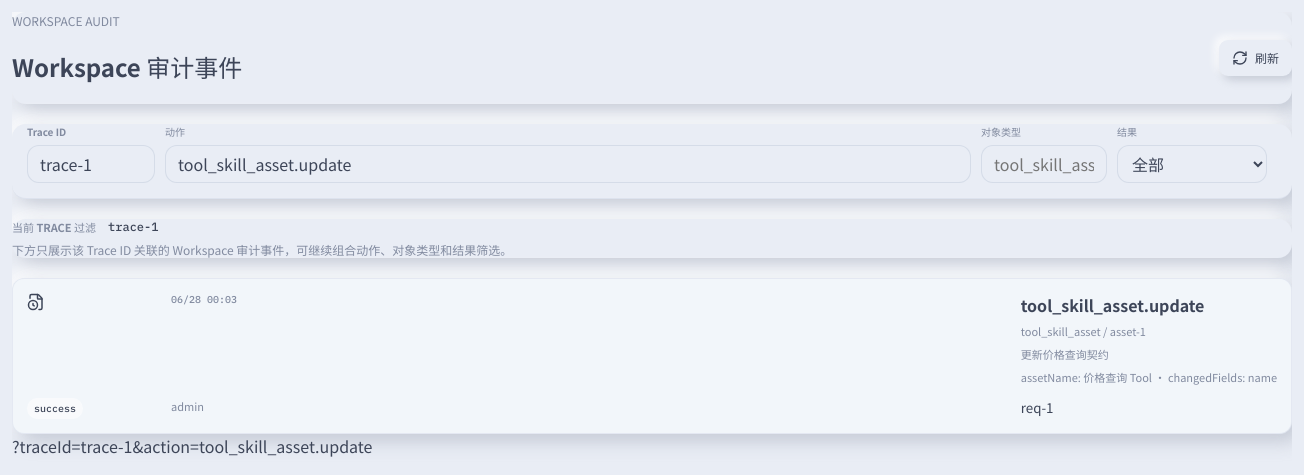
Test: AuditLog page › syncs audit filters to the URL while preserving existing filters
The image size is (1304, 475).
expect the text "tool_skill_asset.update" is shown: met, box [1021,293,1204,317]
Select "denied" in the dropdown labelled "结果": (1192, 164) [1117,145,1267,183]
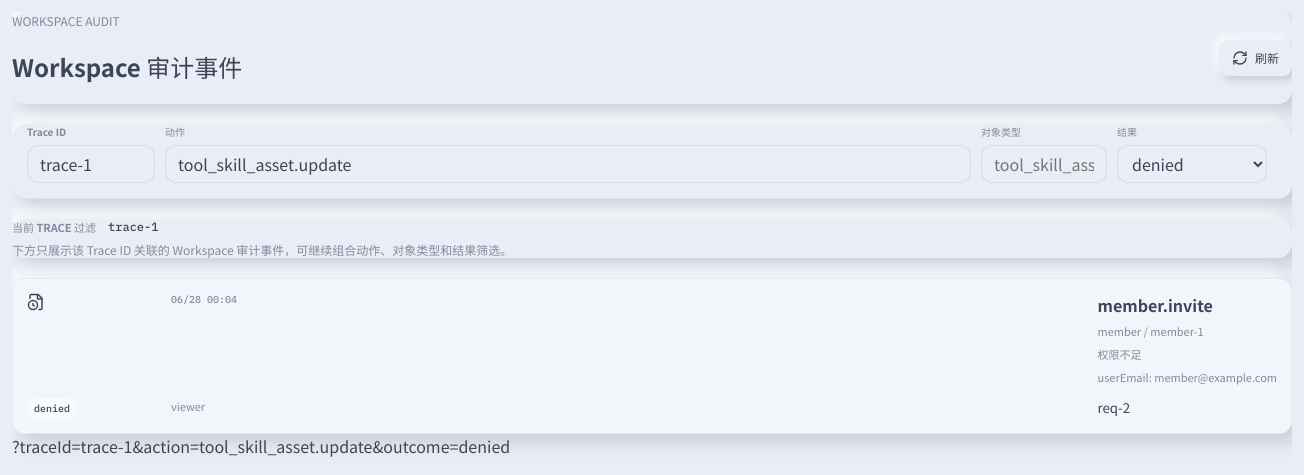
expect the text named "current search" reads "?traceId=trace-1&action=tool_skill_asset.update&outcome=denied": met, box [12,434,510,458]
